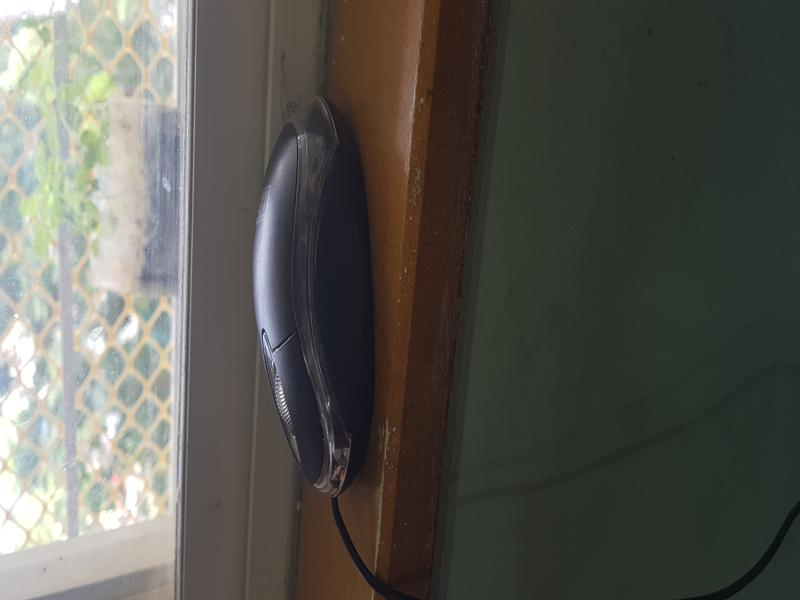mouse: (243, 84, 394, 524)
